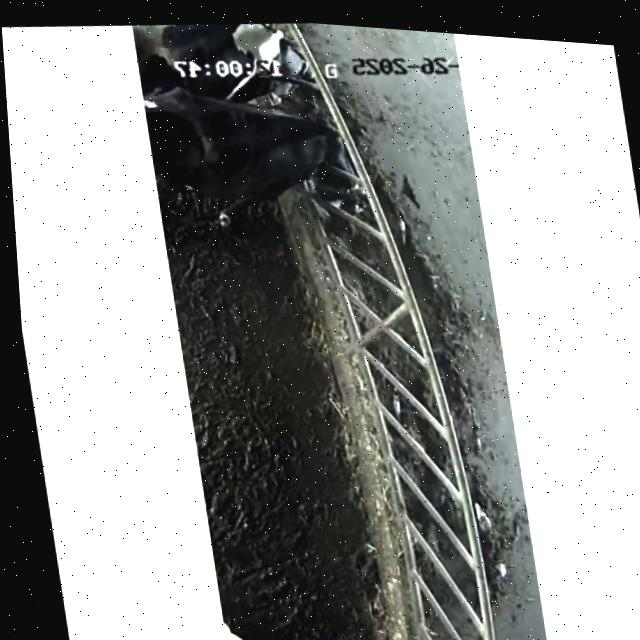eat: (243, 94, 394, 204)
